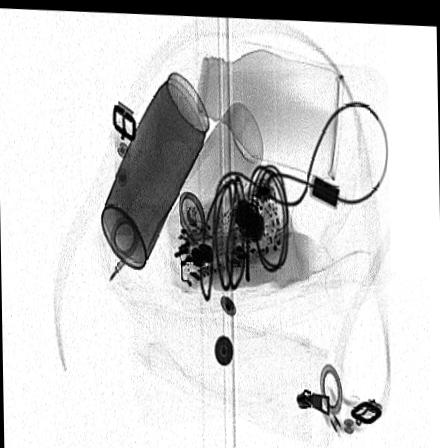Sprayer: (165, 99, 261, 266)
